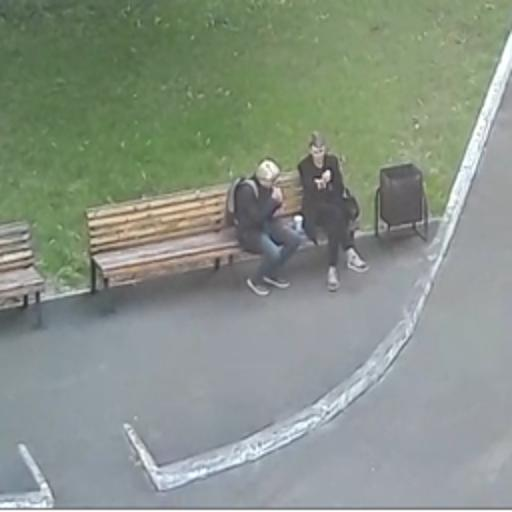Humans: (222, 155, 296, 307), (296, 136, 363, 291)
